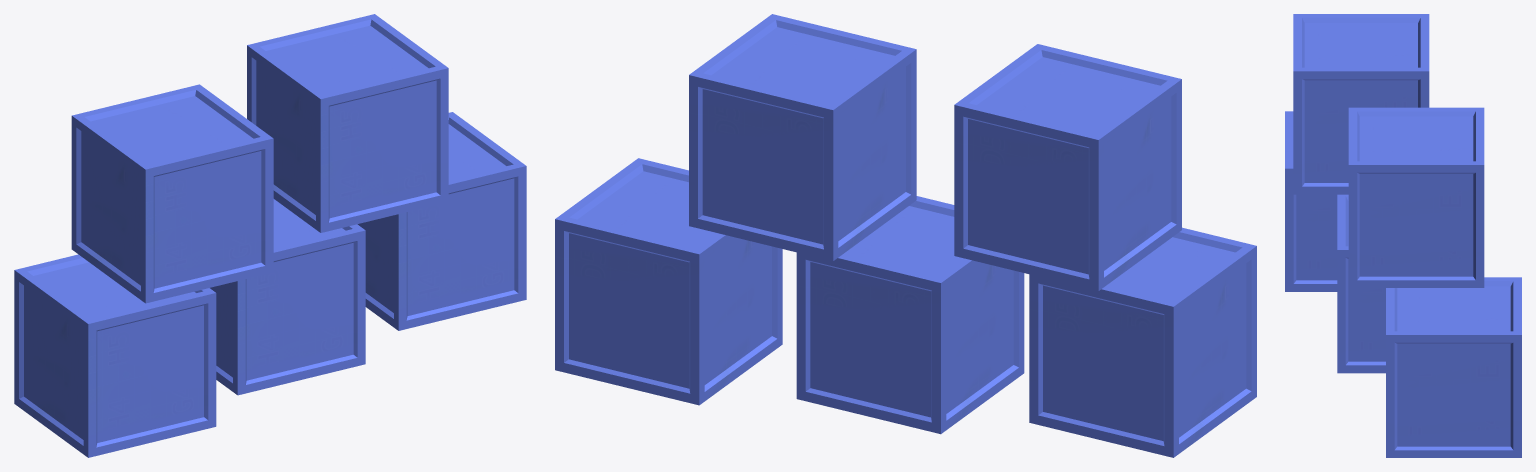
File: SC_CubeToy.fbx
The picture shows the model from 3 angles, left to right: view 1: azimuth 30°, elevation 25°; view 2: azimuth 150°, elevation 25°; view 3: azimuth 270°, elevation 25°; orthographic projection. The views are drawn at different scales.
Visible parts, largest first — view 1: SC_Cube, SC_Cube:_004; view 2: SC_Cube, SC_Cube:_004; view 3: SC_Cube, SC_Cube:_004.
Part boxes in pixels (x1,y1,x2,y2): SC_Cube: (14, 14, 526, 457); SC_Cube:_004: (71, 84, 273, 303); SC_Cube: (555, 14, 1256, 457); SC_Cube:_004: (954, 44, 1181, 290); SC_Cube: (1285, 107, 1521, 457); SC_Cube:_004: (1293, 14, 1429, 194).
Bounding box in the file's own units: 221 × 116 × 99.86.
